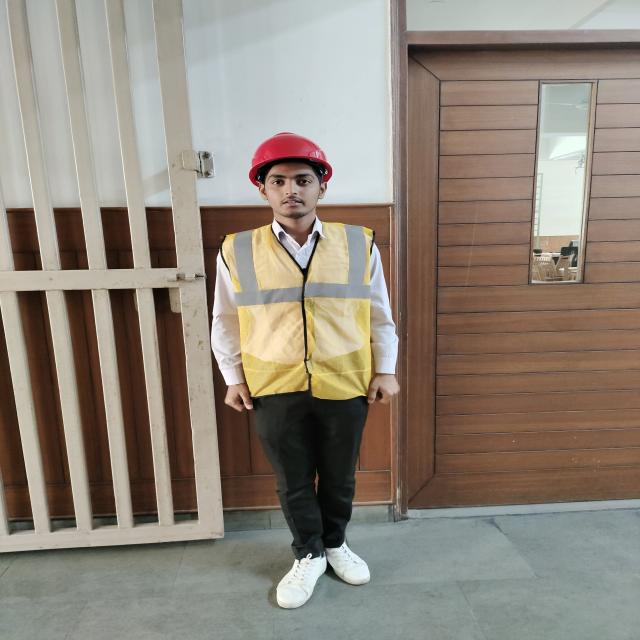safe: (208, 131, 403, 610)
